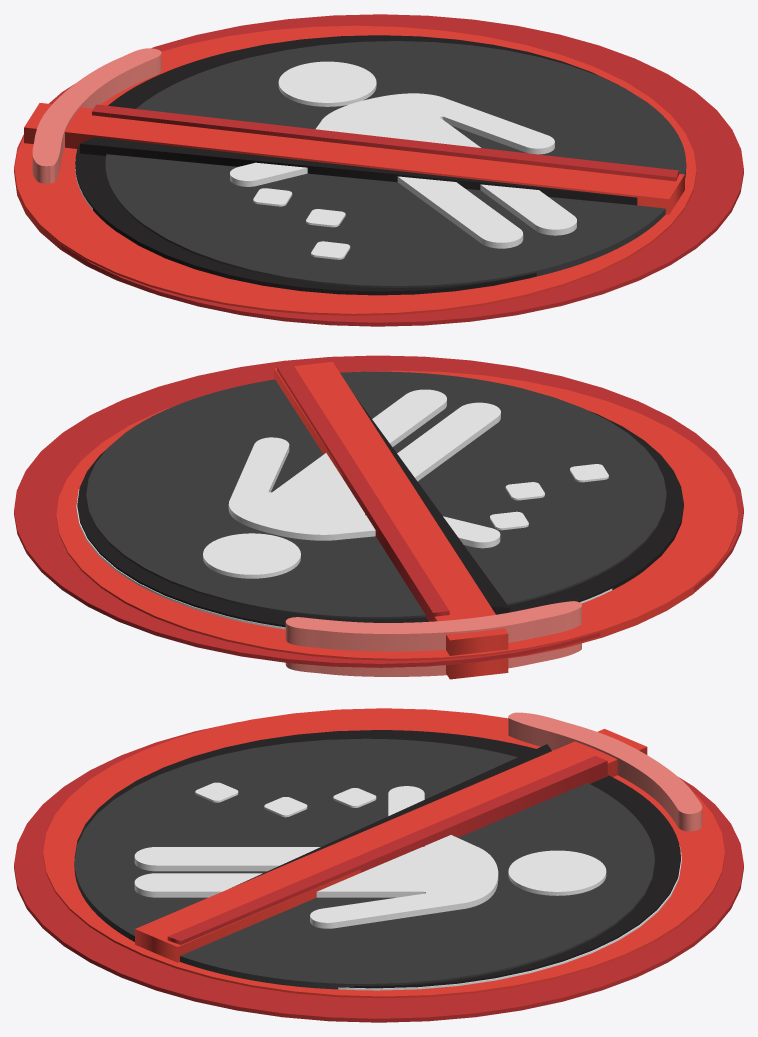
The model's file is emoji_u1f6af.glb.
3 renders of one model, top to bottom at view 1: azimuth 30°, elevation 25°; view 2: azimuth 150°, elevation 25°; view 3: azimuth 270°, elevation 25°, orthographic.
Parts seen in each view (by area): view 1: emoji_u1f6af; view 2: emoji_u1f6af; view 3: emoji_u1f6af.
Boxes of the visible parts, left/top/right/bottom form: emoji_u1f6af: left=14, top=14, right=743, bottom=326; emoji_u1f6af: left=14, top=355, right=743, bottom=679; emoji_u1f6af: left=14, top=708, right=743, bottom=1022.
Size of the model in its own units: 0.0339 by 0.0024 by 0.0339.
